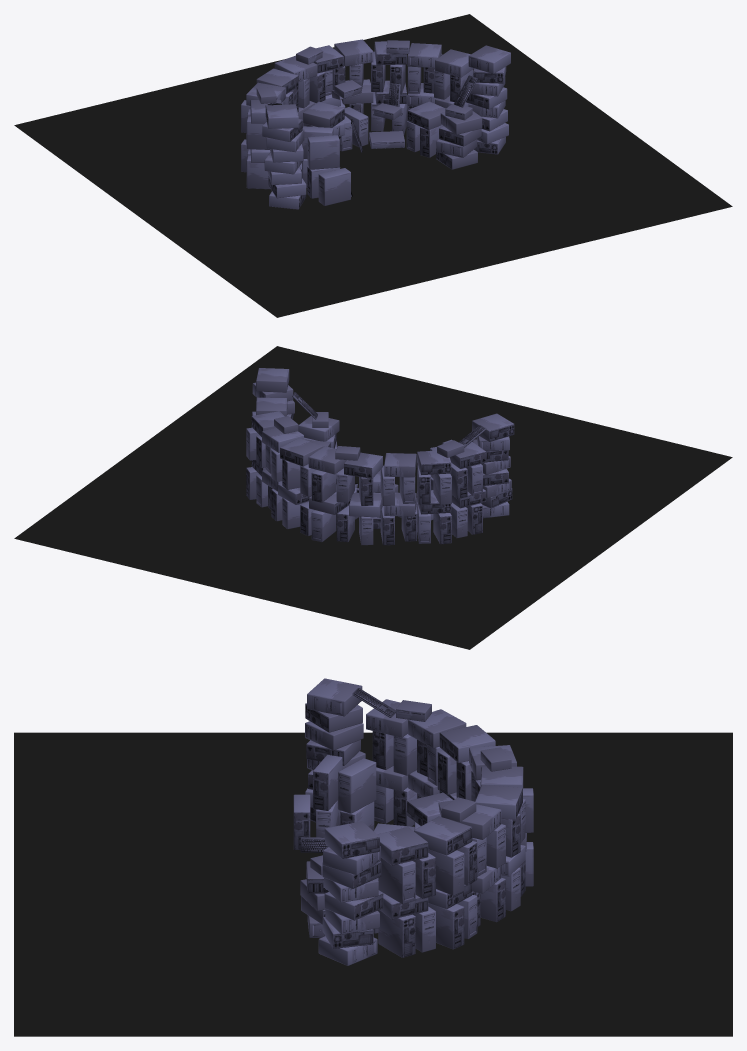
File: OldComputers2.3.glb
3 renders of one model, top to bottom at view 1: azimuth 30°, elevation 25°; view 2: azimuth 150°, elevation 25°; view 3: azimuth 270°, elevation 25°, orthographic. The views are drawn at different scales.
Parts seen in each view (by area): view 1: Plane, PC 01.010, PC 01.011, PC 02.026, PC 02.003, PC 02.012, PC 01.054, PC 01.052, PC 02.006, PC 02.036, PC 01.007, PC 01.032 (+12 smaller); view 2: Plane, PC 02.012, PC 02.026, PC 01.031, PC 01.032, PC 01.054, PC 02.022, PC 01.033, PC 02.021, PC 02.016, PC 01.007, PC 01.030 (+12 smaller); view 3: Plane, PC 01.005, PC 02.026, PC 02.012, PC 02.036, PC 01.052, PC 02.027, PC 02.032, PC 01.031, PC 01.010, PC 02.022, PC 01.047 (+37 smaller).
Part boxes in pixels (x1,y1,x2,y2): Plane: (14, 14, 732, 317); PC 01.010: (307, 135, 339, 169); PC 01.011: (318, 168, 350, 205); PC 02.026: (468, 45, 510, 73); PC 02.003: (303, 101, 344, 127); PC 02.012: (265, 104, 298, 128); PC 01.054: (334, 39, 373, 66); PC 01.052: (435, 49, 473, 77); PC 02.006: (407, 101, 445, 130); PC 02.036: (407, 43, 441, 67); PC 01.007: (440, 111, 482, 134); PC 01.032: (274, 55, 317, 81); Plane: (14, 346, 732, 649); PC 02.012: (472, 413, 514, 441); PC 02.026: (256, 368, 289, 392); PC 01.031: (384, 453, 416, 477); PC 01.032: (344, 452, 382, 478); PC 01.054: (280, 438, 322, 466); PC 02.022: (417, 450, 451, 474); PC 01.033: (308, 446, 346, 474); PC 02.021: (311, 470, 336, 502); PC 02.016: (311, 510, 336, 541); PC 01.007: (298, 415, 339, 441); PC 01.030: (450, 442, 486, 468); Plane: (14, 732, 732, 1036); PC 01.005: (338, 758, 376, 813); PC 02.026: (324, 821, 379, 858); PC 02.012: (307, 678, 362, 716); PC 02.036: (414, 816, 472, 855); PC 01.052: (377, 827, 428, 865); PC 02.027: (378, 910, 415, 957); PC 02.032: (378, 857, 415, 904); PC 01.031: (439, 725, 495, 762); PC 01.010: (313, 755, 342, 810); PC 02.022: (408, 709, 466, 748); PC 01.047: (428, 849, 464, 895).
Size of the model in its own units: 26 by 5 by 26.
Materials: 2 (1 with a texture image).
